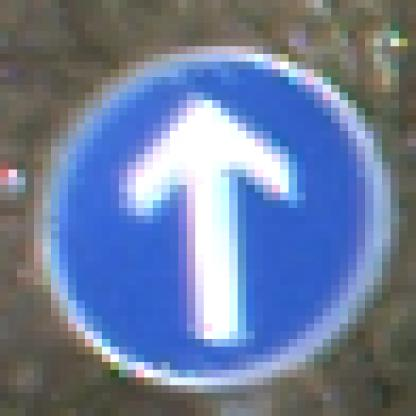AheadOnly: (44, 47, 375, 379)
